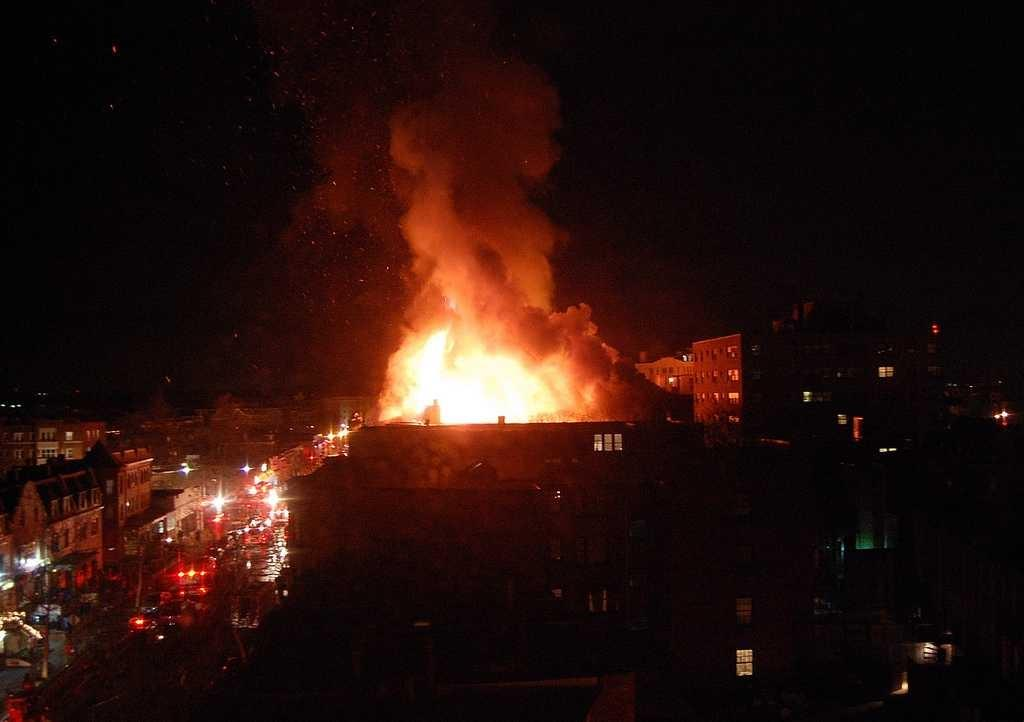fire: (388, 328, 566, 430)
